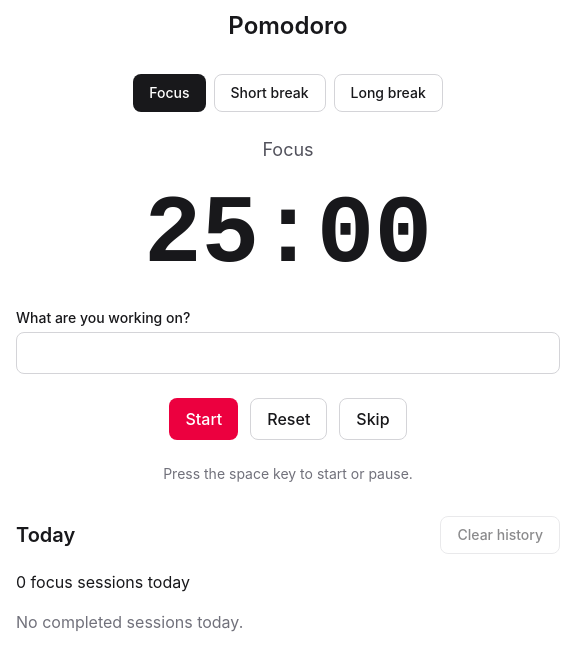
Test case: PomodoroApp › stops the timer and shows the full duration on reset
This screenshot has width=577, height=649.
Click the button "Start" at (204, 419), box [170,398,238,440]
Wait 180000 ms
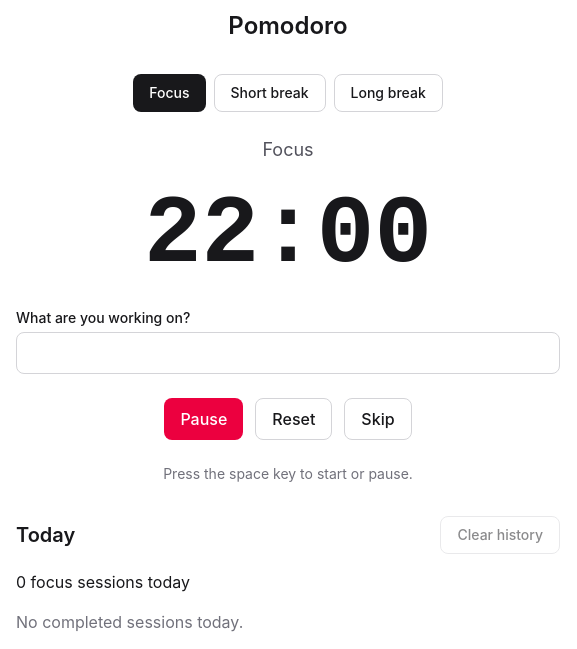
Click the button "Reset" at (294, 419), box [255,398,332,440]
Wait 60000 ms
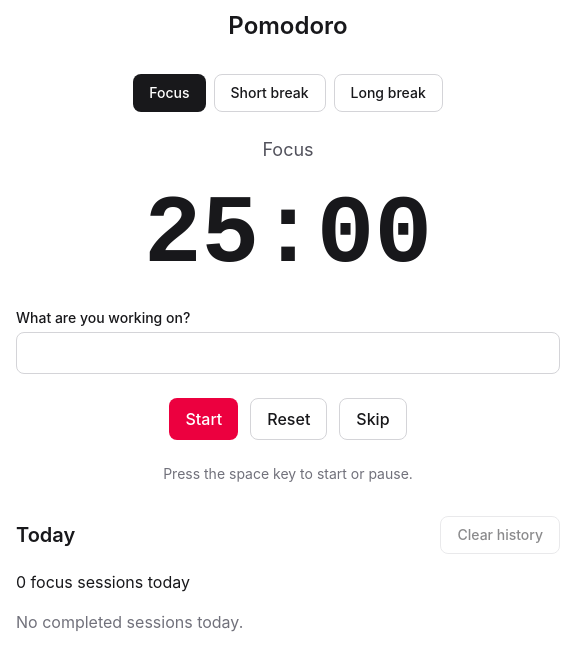
Check: the button "Start" is shown, box [170,398,238,440]
